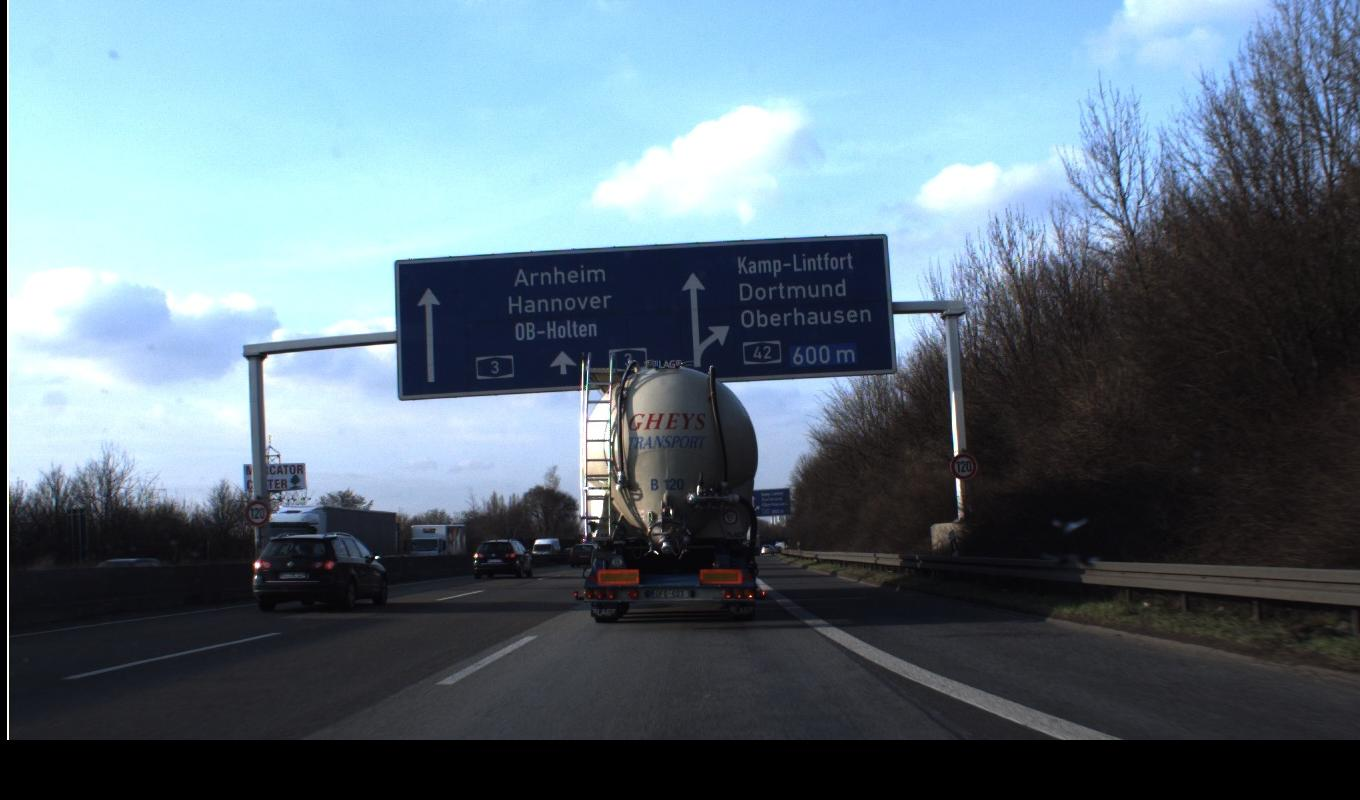speed limit 120: (244, 452, 977, 526)
